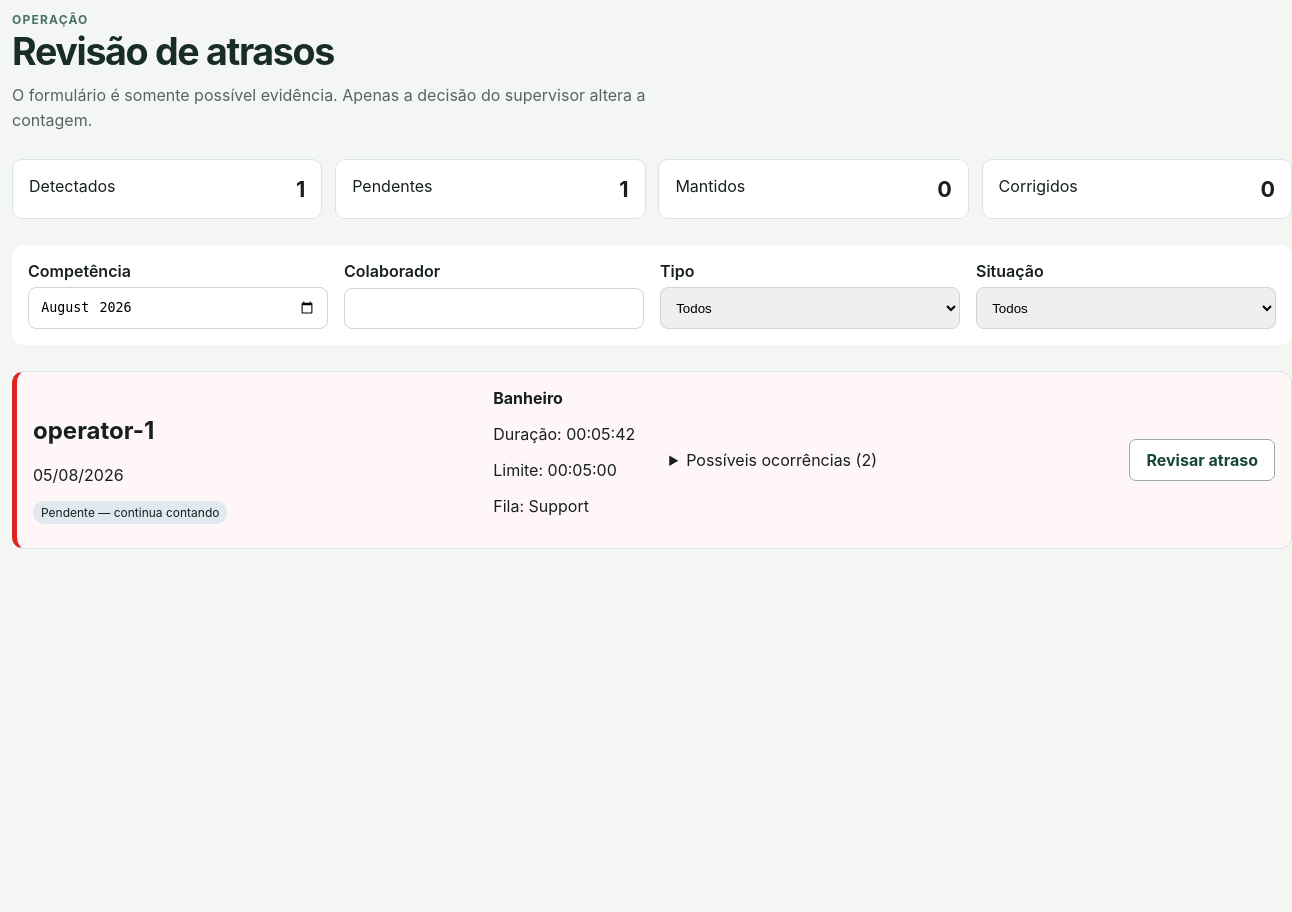
Scenario: shows evidence without choosing it and records a corrected review
The image size is (1292, 912).
Expected: the text "Pendente — continua contando" is shown, [33,501,228,524]
Click the heading "Possíveis ocorrências (2)" at (782, 460), box [686,450,877,470]
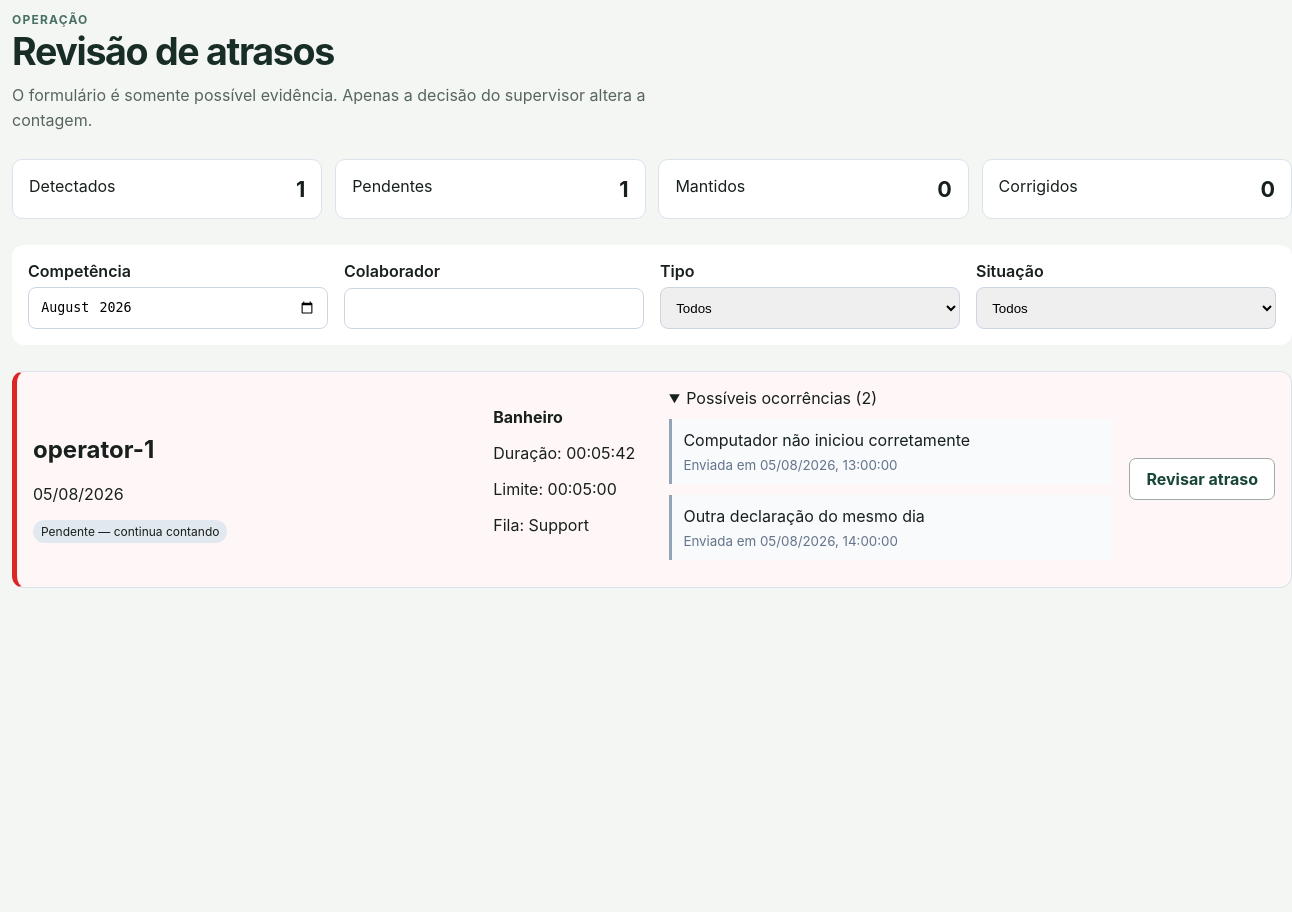
Now the text "Computador não iniciou corretamente" is shown, box [683,430,970,450]
Click the button "Revisar atraso" at (1202, 479), box [1130,458,1275,500]
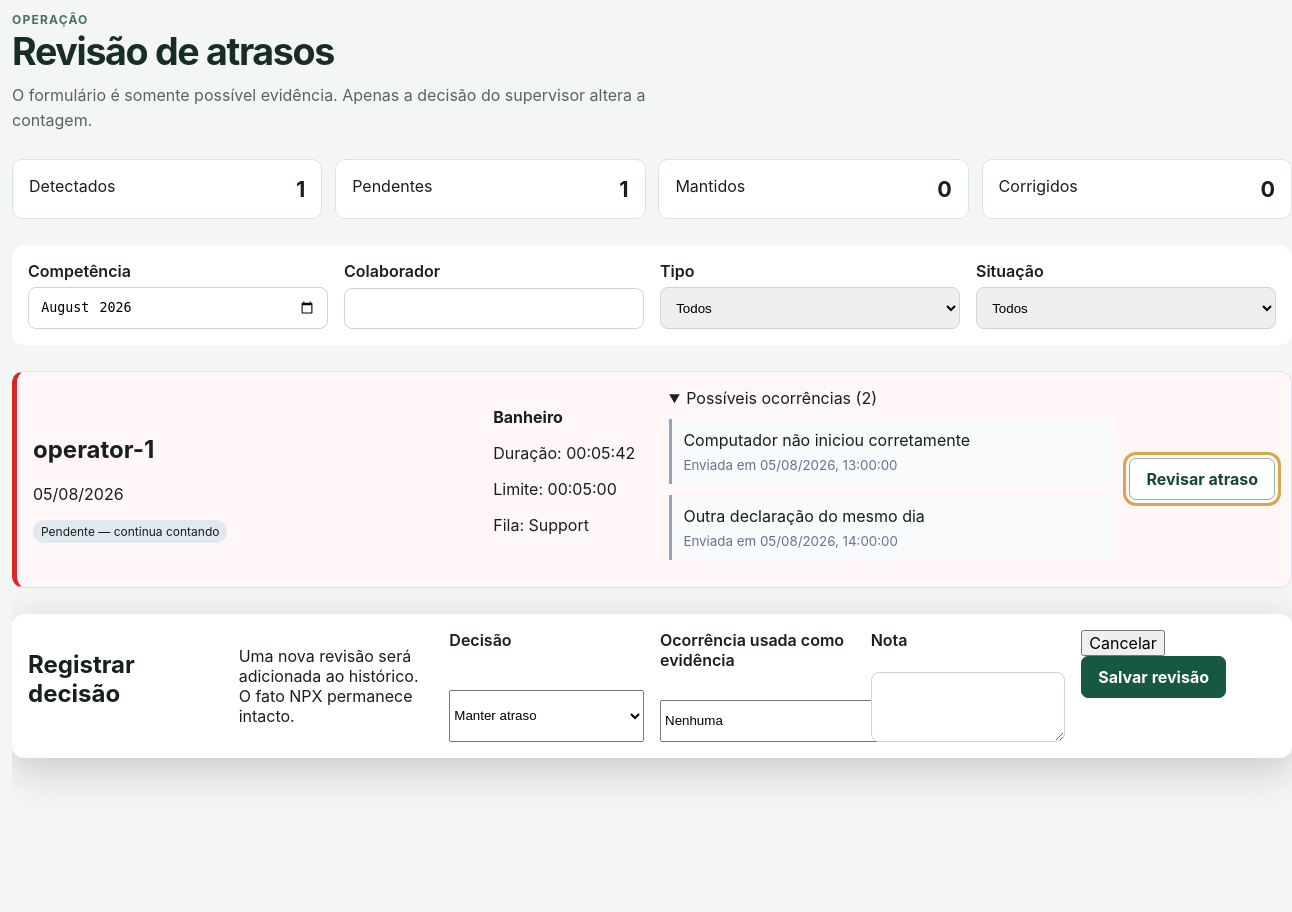
Now the dropdown labelled "Ocorrência usada como evidência" shows "Nenhuma", box [660,700,905,742]
Select "Corrigir atraso" in the dropdown labelled "Decisão" at (547, 716), box [449,690,644,742]
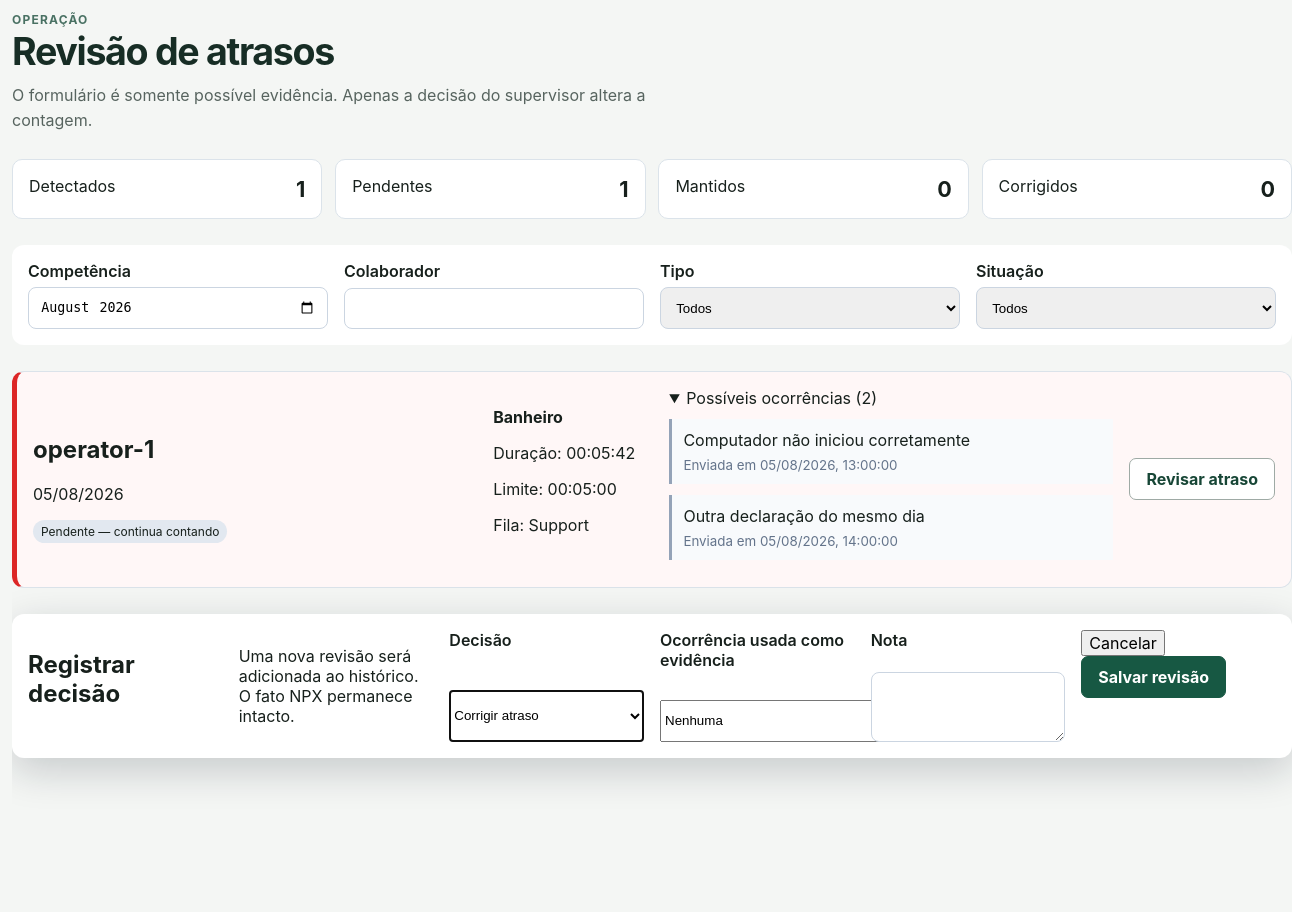
Click the button "Salvar revisão" at (1154, 677), box [1081,656,1226,698]
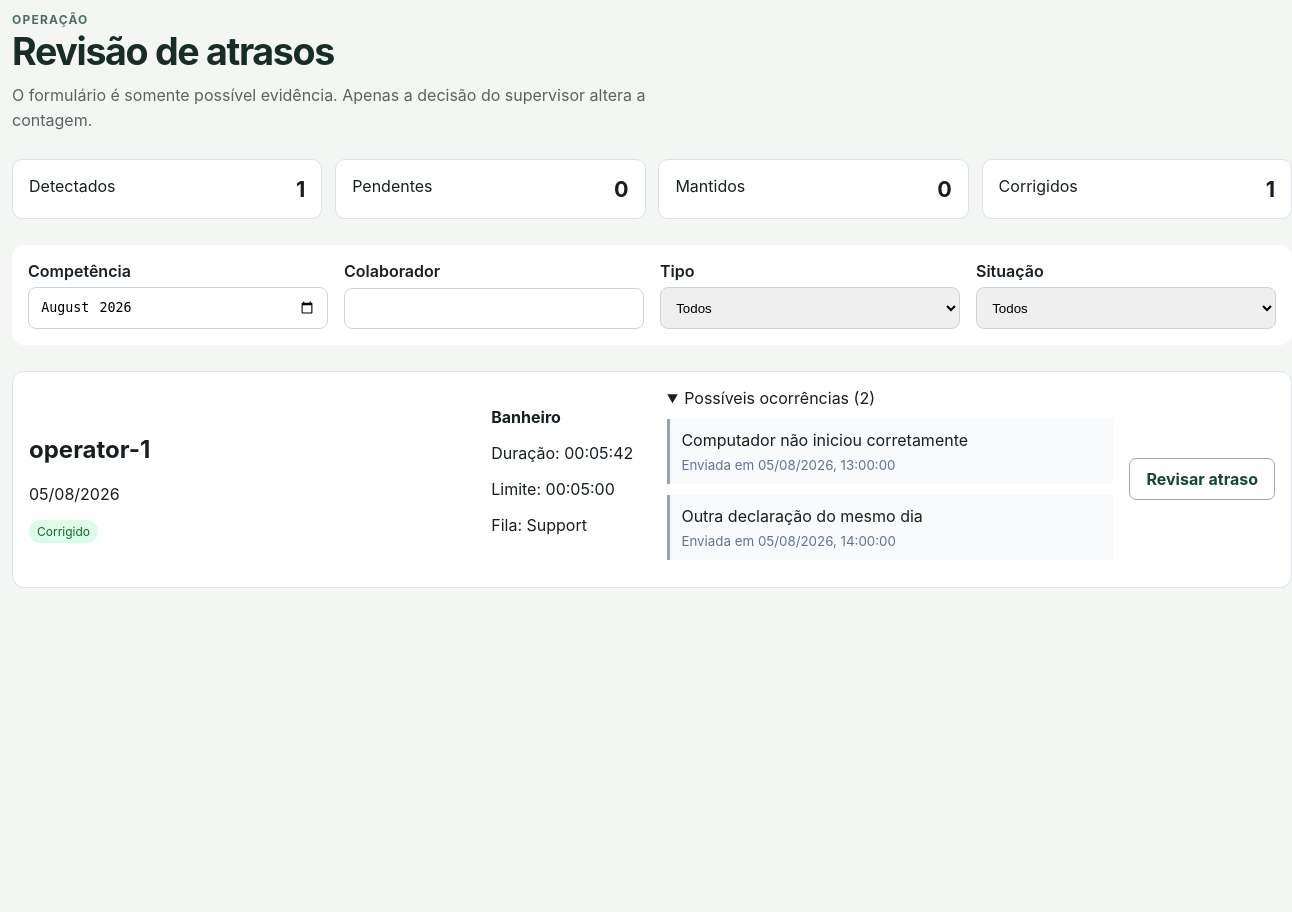
Now the text "Corrigido" is shown, box [29,520,98,543]
